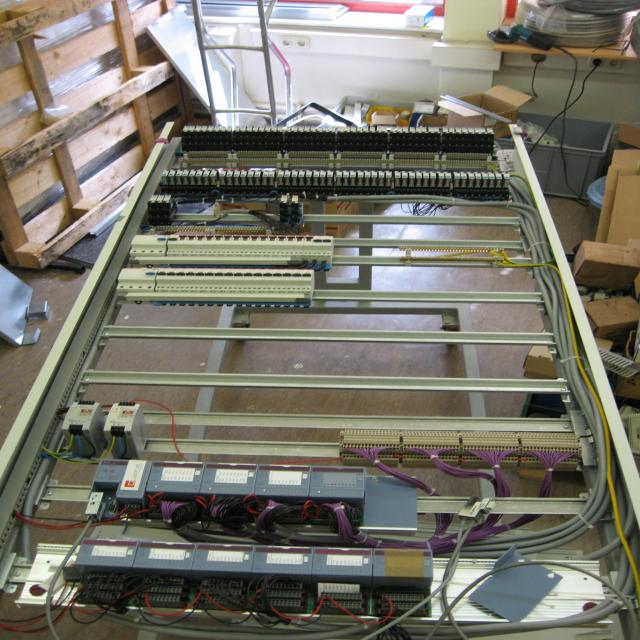FI: (116, 268, 159, 293), (130, 235, 170, 257)
Relais: (161, 194, 172, 203), (148, 194, 158, 203), (155, 194, 165, 203), (195, 169, 204, 177), (202, 169, 211, 177), (209, 169, 218, 177), (291, 195, 299, 204), (453, 171, 461, 179), (460, 171, 468, 179), (488, 172, 496, 180), (161, 169, 170, 176), (181, 169, 190, 176), (188, 169, 197, 176), (219, 170, 228, 177), (182, 125, 190, 132), (176, 170, 184, 177), (226, 170, 234, 177), (233, 170, 241, 177), (247, 170, 255, 177), (277, 170, 285, 177), (371, 171, 379, 178), (430, 171, 437, 179), (445, 171, 452, 179), (474, 172, 482, 179), (481, 172, 489, 179), (495, 172, 503, 179), (503, 172, 510, 180), (280, 195, 287, 203), (212, 126, 221, 132), (416, 171, 422, 180), (188, 125, 195, 132), (304, 125, 311, 132), (462, 127, 469, 134), (194, 126, 202, 132), (206, 126, 214, 132), (239, 126, 247, 132), (487, 128, 495, 134), (168, 170, 176, 176), (240, 170, 248, 176), (262, 171, 270, 177), (409, 171, 415, 179), (423, 171, 429, 179), (439, 171, 445, 179), (469, 171, 475, 179), (251, 126, 260, 131), (201, 126, 208, 132), (224, 126, 231, 132), (233, 126, 240, 132), (246, 126, 253, 132), (271, 126, 278, 132), (291, 126, 298, 132), (390, 126, 396, 133), (449, 127, 455, 134), (456, 127, 462, 134), (474, 127, 480, 134), (480, 128, 487, 134), (254, 171, 261, 177), (268, 171, 275, 177), (284, 171, 291, 177), (291, 171, 298, 177), (298, 171, 305, 177), (313, 171, 320, 177), (379, 171, 385, 178), (386, 170, 392, 177), (395, 171, 401, 178), (402, 171, 408, 178), (298, 126, 304, 132), (311, 126, 317, 132), (350, 126, 356, 132), (377, 126, 383, 132), (382, 127, 388, 133), (397, 127, 403, 133), (410, 127, 416, 133), (428, 127, 434, 133), (434, 127, 440, 133), (306, 171, 312, 177), (320, 171, 326, 177), (336, 171, 342, 177), (365, 172, 371, 178), (258, 126, 265, 131), (264, 126, 271, 131), (277, 126, 284, 131), (316, 127, 323, 132), (322, 127, 329, 132), (444, 126, 449, 133), (327, 172, 334, 177), (285, 127, 291, 132), (330, 127, 336, 132), (344, 127, 350, 132), (363, 127, 368, 133), (403, 127, 408, 133), (422, 127, 427, 133), (468, 128, 474, 133), (343, 172, 349, 177), (350, 172, 356, 177), (358, 172, 364, 177), (218, 127, 225, 131), (338, 127, 343, 132), (357, 127, 362, 132), (370, 127, 375, 132), (416, 127, 421, 132)
SPS_System_Steuerungskomponente: (93, 461, 152, 498), (133, 539, 197, 570), (254, 464, 311, 497), (191, 543, 255, 572), (312, 546, 373, 576), (146, 461, 205, 492), (76, 537, 139, 566), (251, 545, 314, 574), (200, 463, 257, 494), (310, 466, 365, 498), (373, 548, 433, 577)
Sicherungen_230V: (184, 267, 199, 293), (174, 268, 189, 293), (155, 268, 170, 292), (193, 268, 207, 293), (203, 268, 217, 293), (213, 268, 227, 293), (232, 268, 246, 293), (290, 269, 304, 294), (165, 268, 179, 292), (223, 268, 236, 293), (242, 269, 255, 293), (252, 269, 265, 293), (271, 269, 284, 293), (262, 269, 274, 293), (282, 269, 294, 293), (300, 270, 312, 294), (275, 235, 288, 257), (293, 235, 306, 257), (321, 235, 333, 258), (266, 235, 279, 256), (203, 235, 215, 257), (212, 235, 224, 257), (221, 235, 233, 257), (230, 235, 242, 257), (258, 235, 270, 257), (284, 235, 296, 257), (240, 235, 252, 256), (249, 235, 261, 256), (167, 234, 180, 253), (176, 235, 189, 254), (313, 235, 324, 257), (303, 236, 314, 257), (185, 235, 197, 254), (194, 235, 206, 253)
